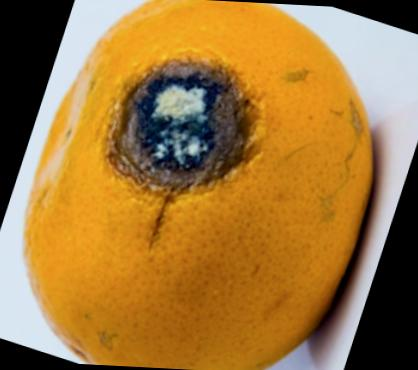Orange Rotten: (12, 0, 392, 370)
